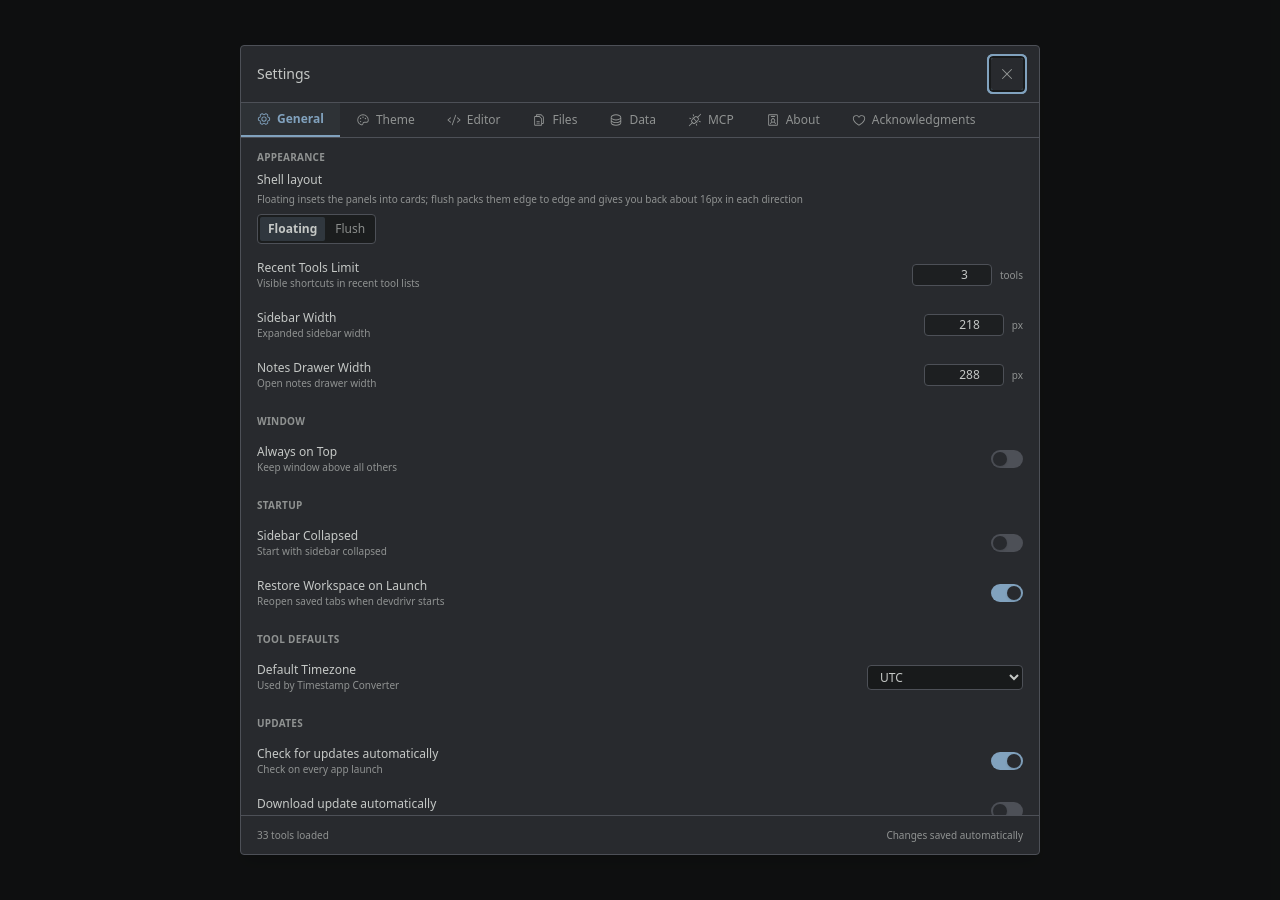
SettingsPanel › renders three aligned action slots for every dataset
Click the tab "Data" at (633, 120), box [593,103,672,137]
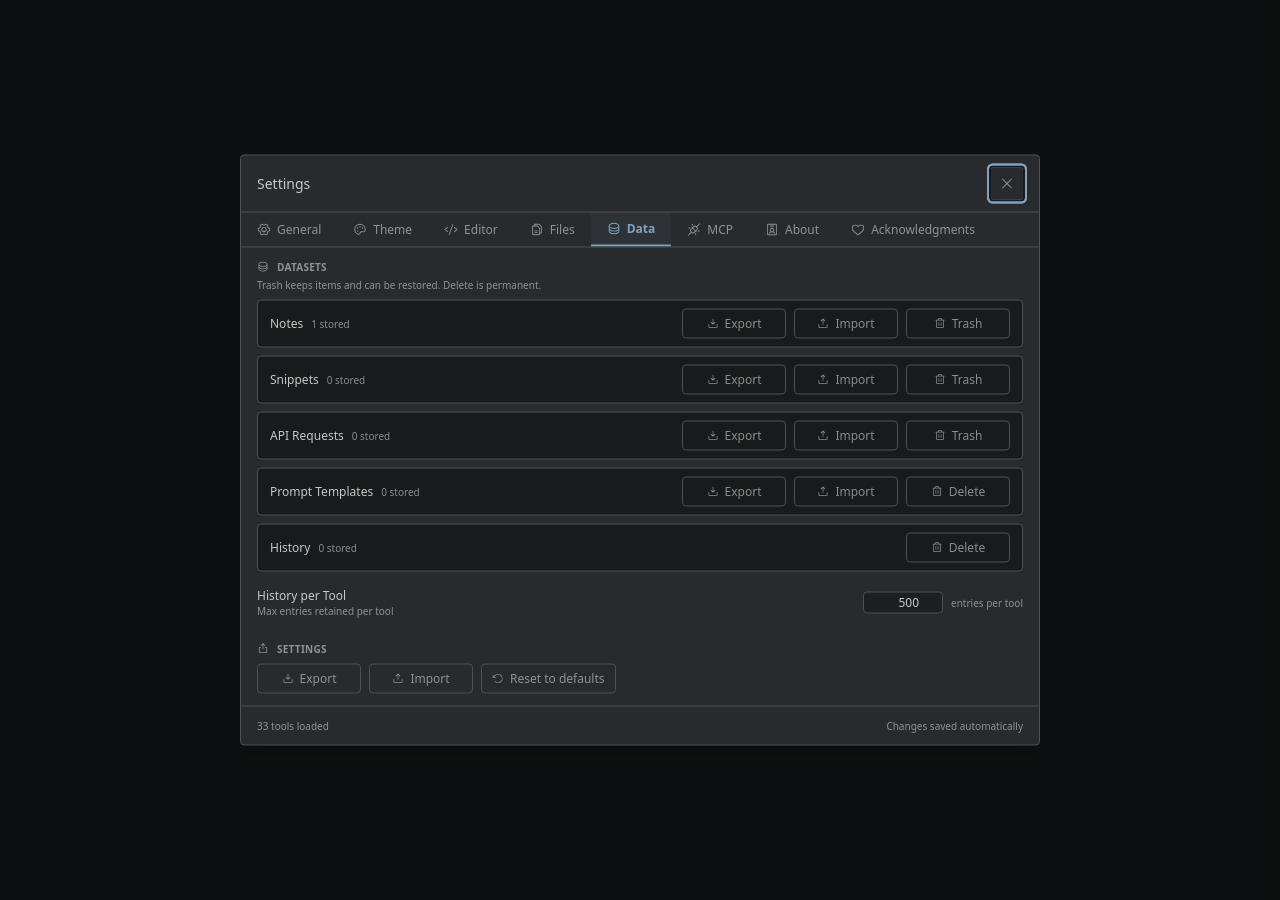
Now the heading "Datasets" is shown, box [257,260,327,274]
Now the button with aria-label "Delete history permanently" is shown, box [906,532,1010,562]
Now the heading "Settings" below "Max entries retained per tool" is shown, box [257,642,327,656]
